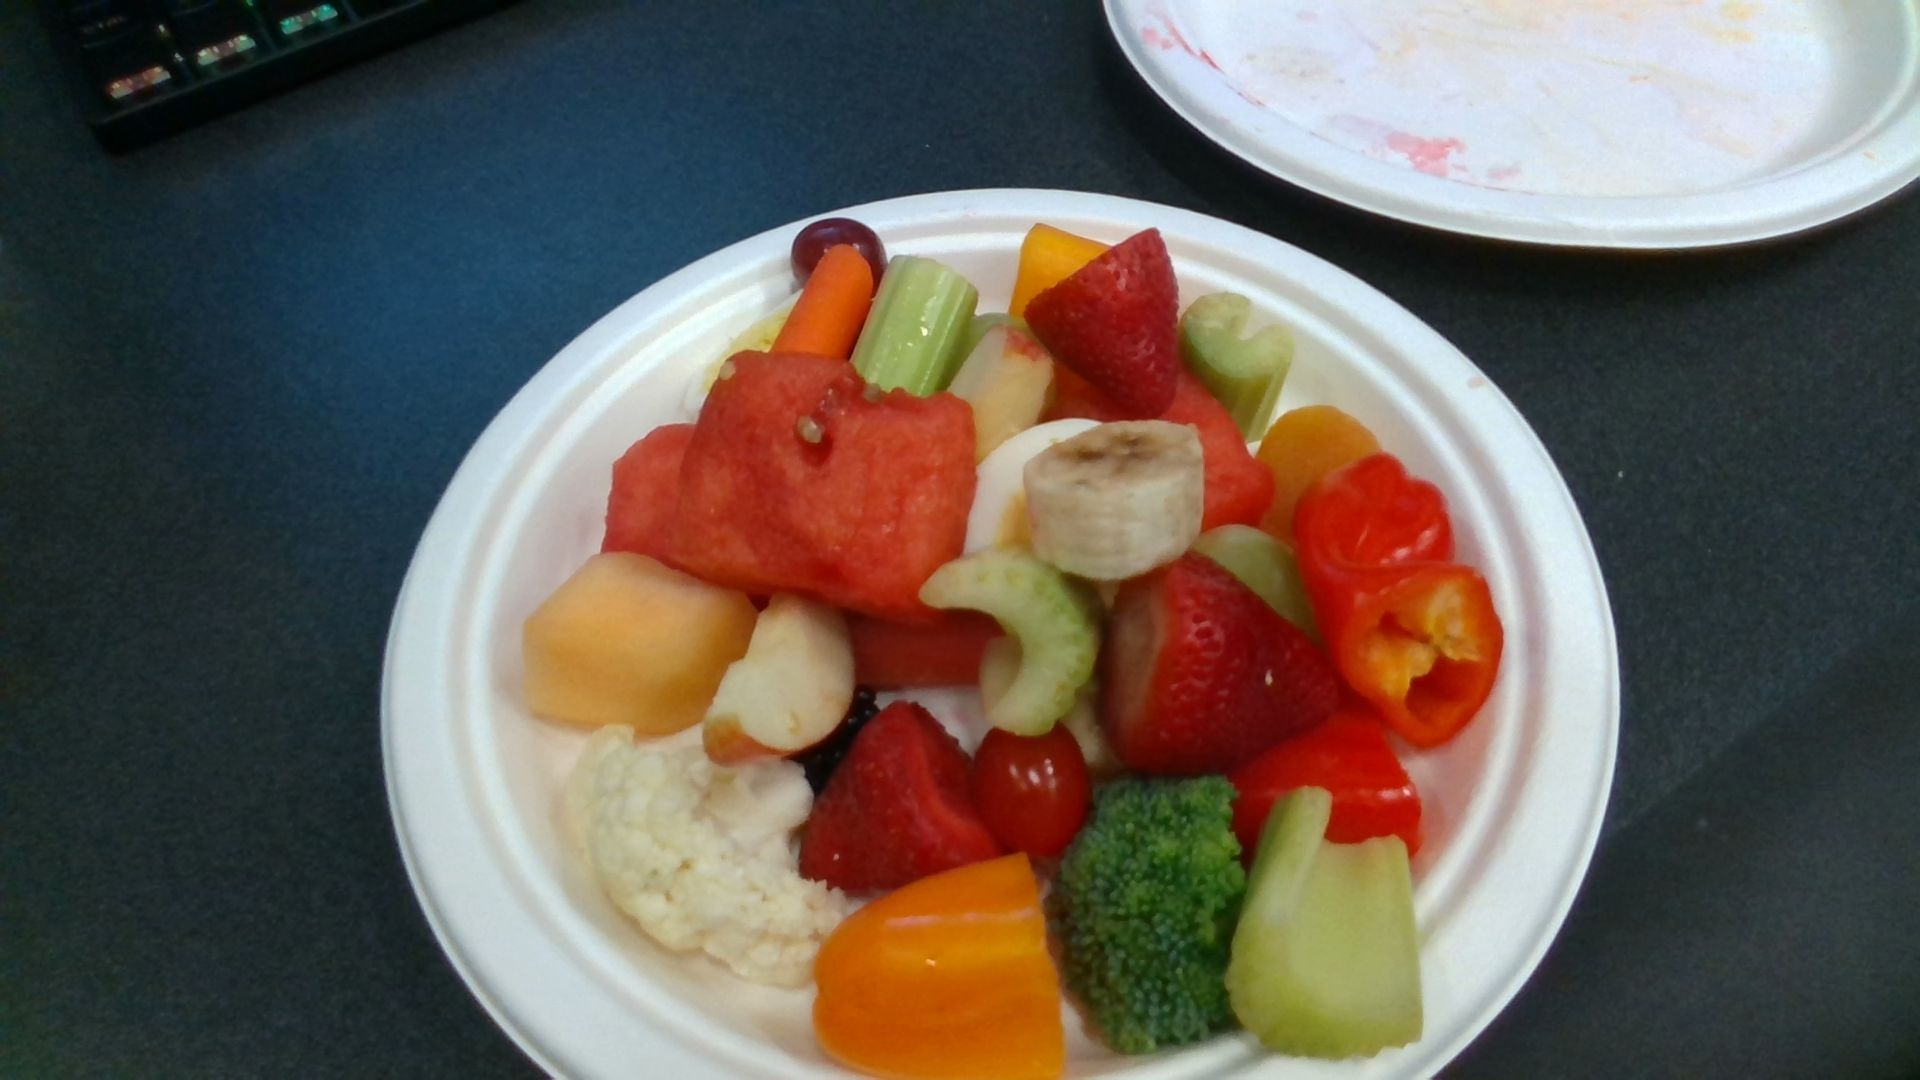apple: (709, 596, 855, 758), (949, 331, 1054, 458)
banana: (1027, 423, 1205, 578)
bell_pepper: (1295, 455, 1505, 746), (819, 856, 1065, 1080)
broccoli: (1052, 781, 1244, 1046)
cantalope: (527, 555, 752, 738)
carrot: (774, 248, 876, 356)
cauliflower: (556, 728, 845, 982)
celery: (1229, 791, 1424, 1058), (924, 550, 1095, 741), (851, 255, 978, 392), (1185, 293, 1288, 440)
cherry_tomato: (975, 731, 1089, 851)
melon: (669, 356, 975, 621)
strawberry: (1110, 553, 1349, 766), (804, 705, 997, 887), (1025, 231, 1180, 421)
